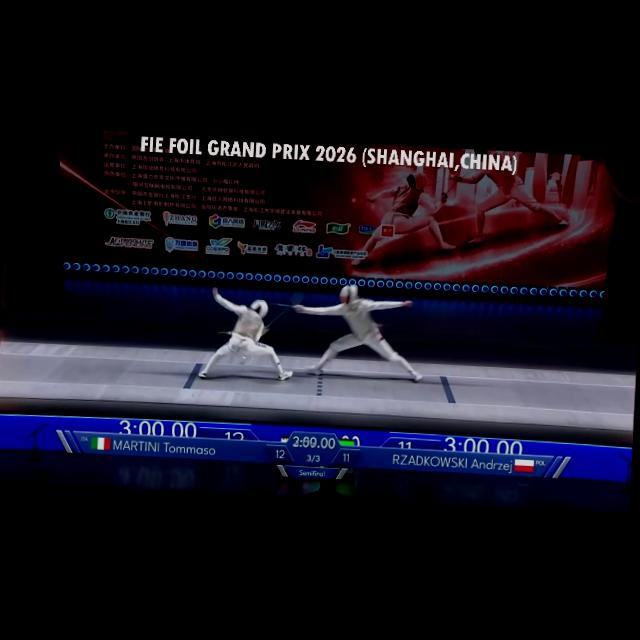blade: (262, 290, 304, 338), (262, 298, 305, 316)
